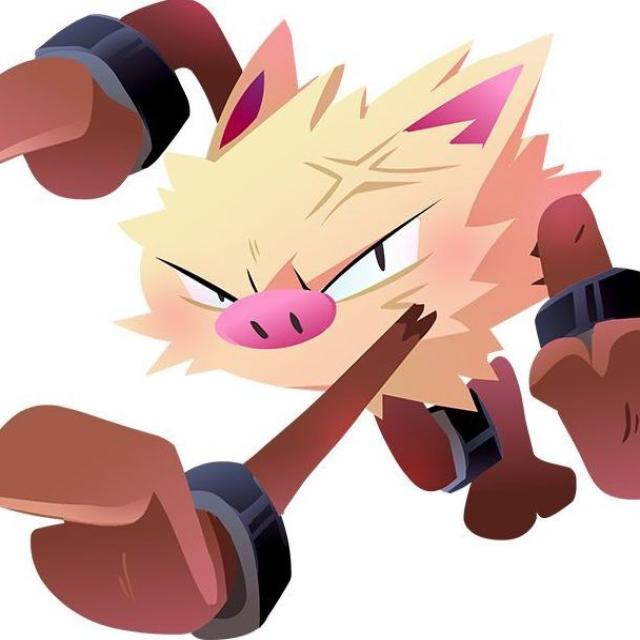Primeape: (118, 49, 578, 496)
